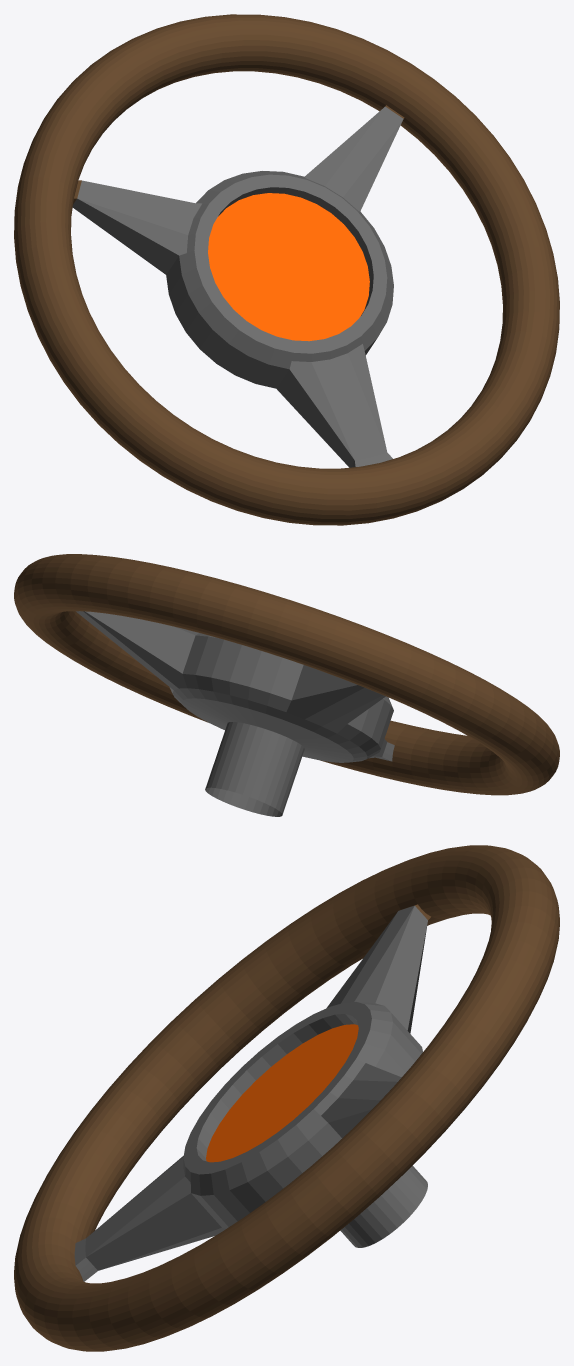
File: Swheel.fbx
The picture shows the model from 3 angles, top to bottom: view 1: azimuth 30°, elevation 25°; view 2: azimuth 150°, elevation 25°; view 3: azimuth 270°, elevation 25°; orthographic projection. The views are drawn at different scales.
Visible parts, largest first — view 1: Swheel; view 2: Swheel; view 3: Swheel.
Boxes of the visible parts, x1=… form: Swheel: x1=14, y1=14, x2=559, y2=525; Swheel: x1=14, y1=554, x2=559, y2=816; Swheel: x1=14, y1=845, x2=559, y2=1351.
Size of the model in its own units: 26.34 by 17.59 by 21.01.
